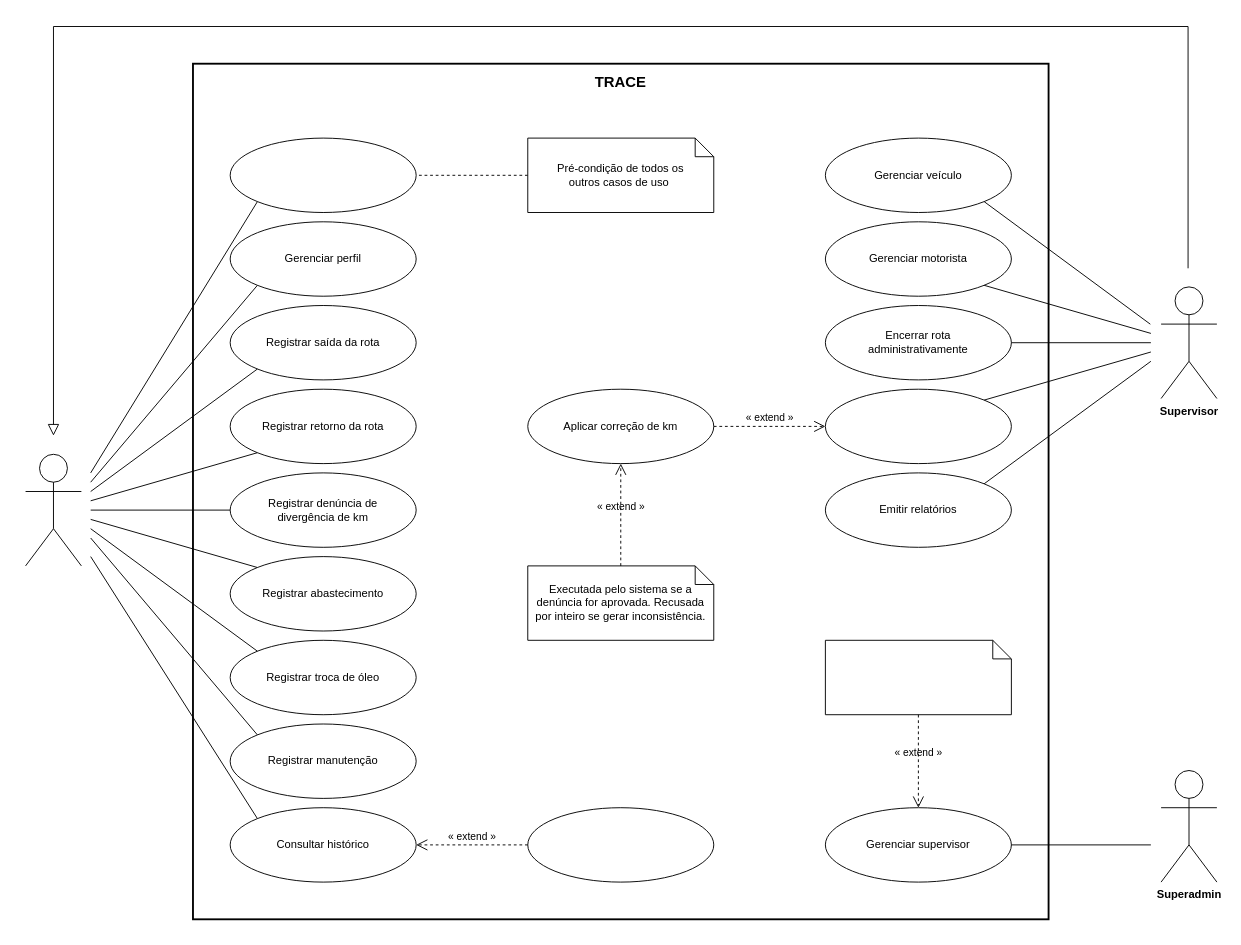
Image size: 1241x945. Some labels were removed from this diagram. Here are the shapes that lost their labels. From the top down, the box of each, then its label:
(229, 137, 416, 213): Autenticar-se
(824, 388, 1011, 464): Revisar denúncia
(25, 453, 81, 566): Motorista
(824, 639, 1011, 715): Realizado no painel do PocketBase, fora do aplicativo
(527, 807, 714, 882): Editar registro próprio
